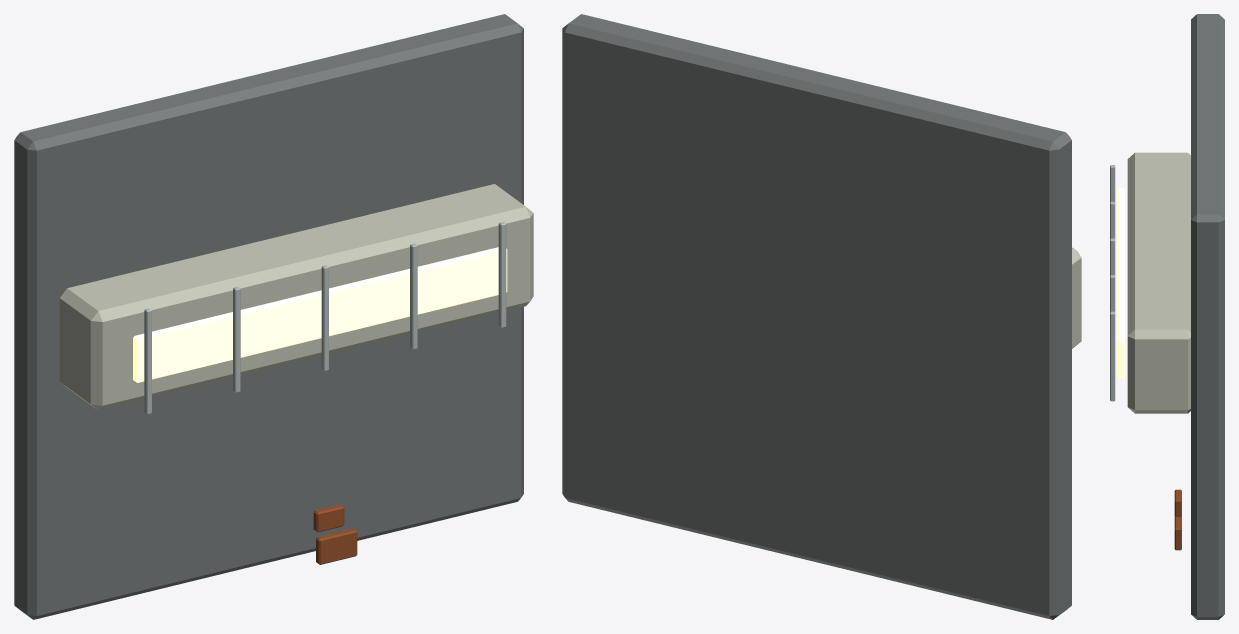
Rendered from runtime.glb.
3 renders of one model, left to right at view 1: azimuth 30°, elevation 25°; view 2: azimuth 150°, elevation 25°; view 3: azimuth 270°, elevation 25°, orthographic. The views are drawn at different scales.
Visible parts, largest first — view 1: reactor-maintenance-light-v04_nocol; view 2: reactor-maintenance-light-v04_nocol; view 3: reactor-maintenance-light-v04_nocol.
Part boxes in pixels (left/top/right/bottom): reactor-maintenance-light-v04_nocol: left=14, top=14, right=533, bottom=619; reactor-maintenance-light-v04_nocol: left=562, top=14, right=1081, bottom=619; reactor-maintenance-light-v04_nocol: left=1110, top=14, right=1224, bottom=619.
Size of the model in its own units: 2.3 by 2.13 by 0.5425.
